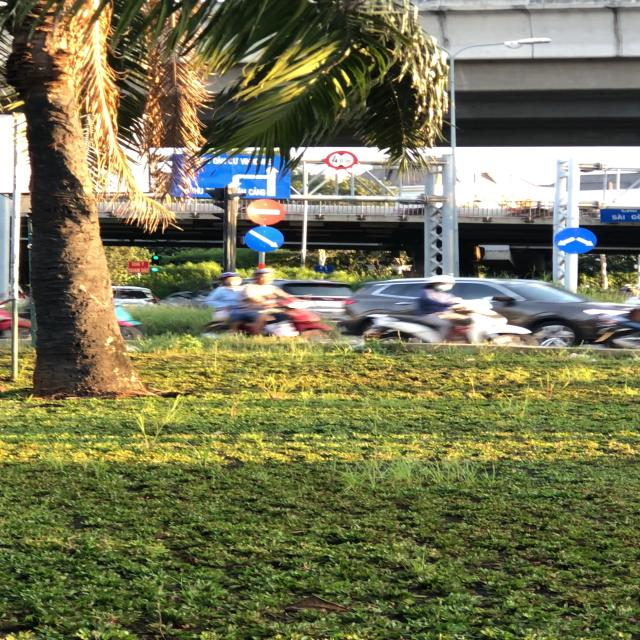Bien bao cam di nguoc chieu: (244, 197, 289, 228)
Bien bao han che chieu cao: (325, 149, 364, 173)
Bien bao huong phai di vong chuong ngai vat: (547, 226, 605, 257), (242, 227, 290, 253)
